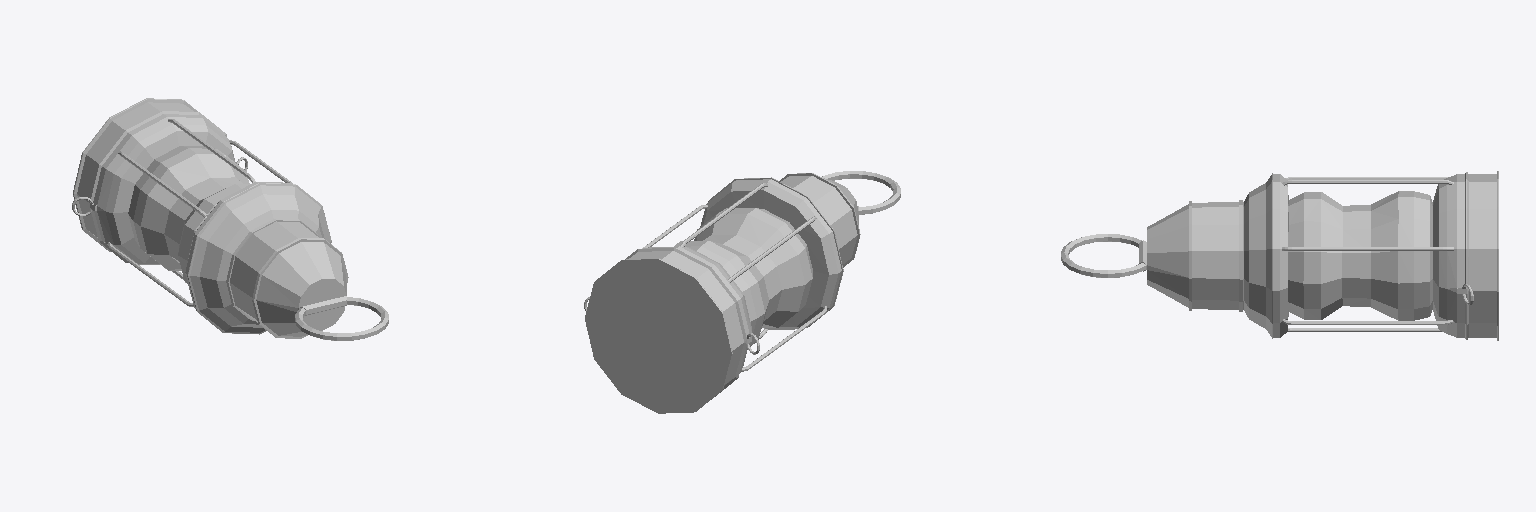
File: Lantern2.obj
3 views of the same model, side by side, from view 1: azimuth 30°, elevation 25°; view 2: azimuth 150°, elevation 25°; view 3: azimuth 270°, elevation 25° (orthographic).
Visible parts, largest first — view 1: Lantern; view 2: Lantern; view 3: Lantern.
Boxes of the visible parts, x1=… form: Lantern: x1=72, y1=98, x2=388, y2=340; Lantern: x1=584, y1=171, x2=900, y2=413; Lantern: x1=1061, y1=171, x2=1498, y2=340.
Bounding box in the file's own units: 4.66 × 3.93 × 10.1.